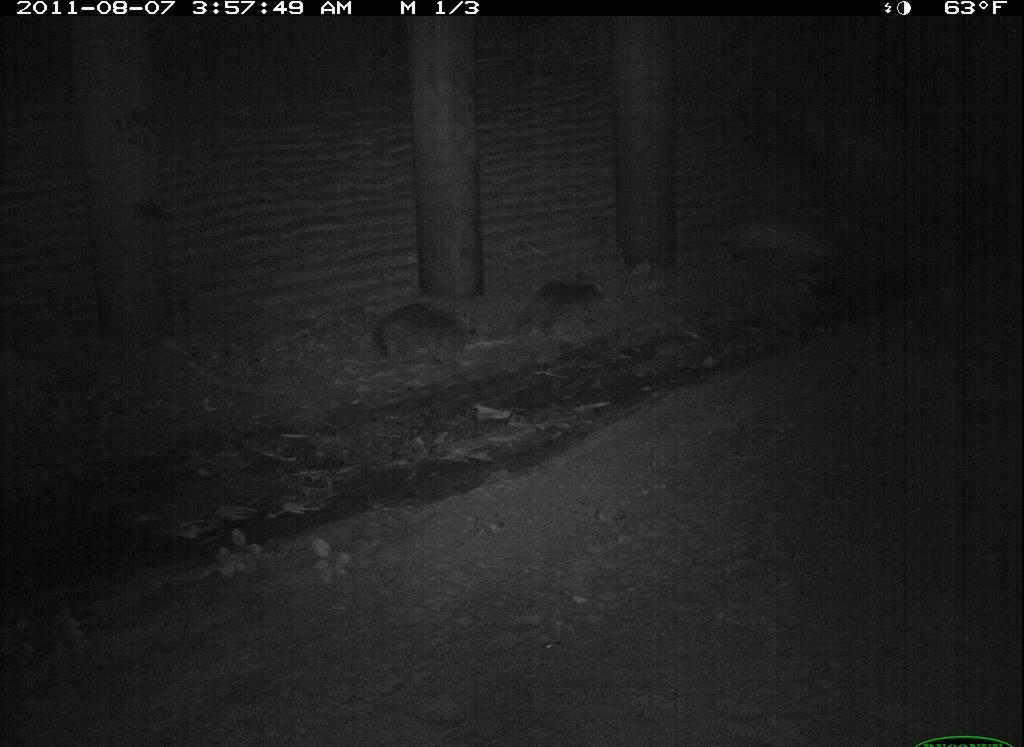raccoon: (729, 597, 946, 742), (1018, 551, 1024, 682)
